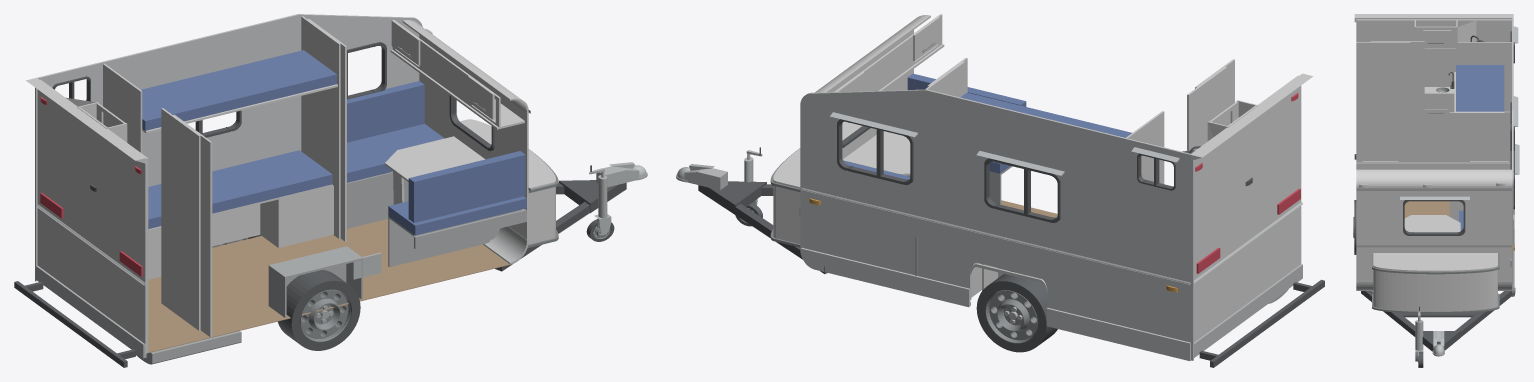
File: CORTE INTERIOR C.glb
The picture shows the model from 3 angles, left to right: view 1: azimuth 30°, elevation 25°; view 2: azimuth 150°, elevation 25°; view 3: azimuth 270°, elevation 25°; orthographic projection. The views are drawn at different scales.
Visible parts, largest first — view 1: Mesh_Mesh_head_geo.001_lambert2SG.001; view 2: Mesh_Mesh_head_geo.001_lambert2SG.001; view 3: Mesh_Mesh_head_geo.001_lambert2SG.001.
Part boxes in pixels (x1,y1,x2,y2): Mesh_Mesh_head_geo.001_lambert2SG.001: [14, 14, 647, 367]; Mesh_Mesh_head_geo.001_lambert2SG.001: [676, 14, 1324, 367]; Mesh_Mesh_head_geo.001_lambert2SG.001: [1353, 14, 1519, 367].
Size of the model in its own units: 0.312 by 0.122 by 0.107.
